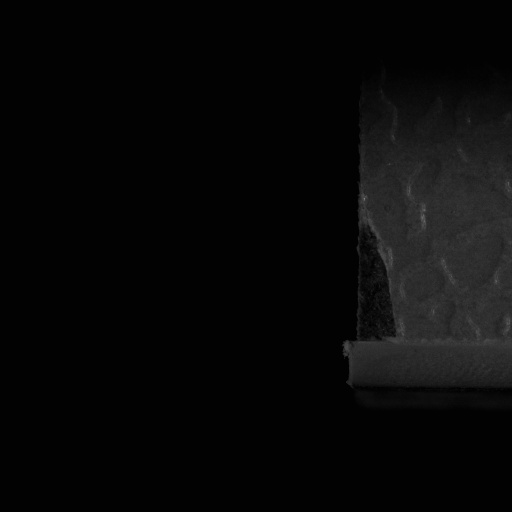bengque: (351, 218, 406, 347)
